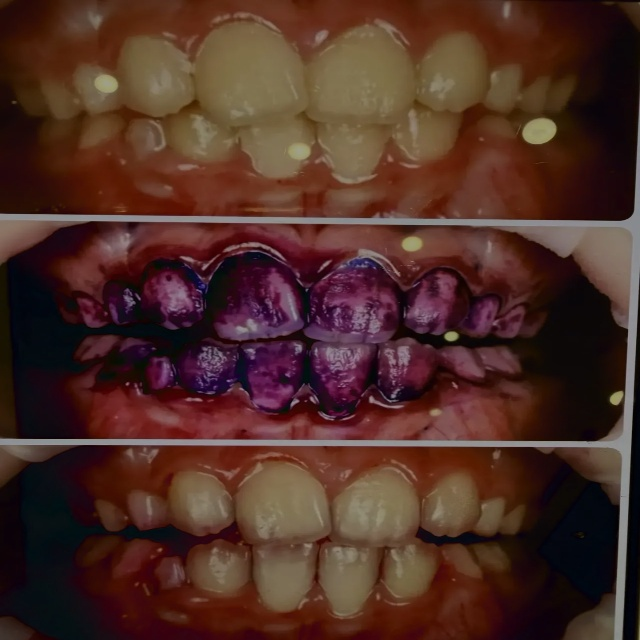clean_tooth: (348, 482, 386, 527), (592, 229, 628, 272), (524, 119, 554, 141)
plaque: (214, 261, 387, 410), (157, 280, 206, 327), (182, 351, 235, 389), (405, 295, 443, 333)
